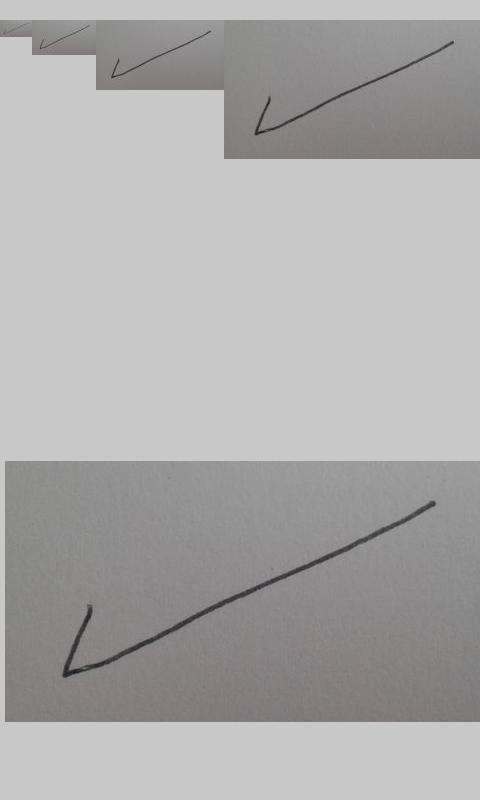check_box: (61, 502, 437, 680), (254, 41, 454, 136), (111, 31, 211, 78), (40, 24, 90, 49), (3, 23, 29, 34)
